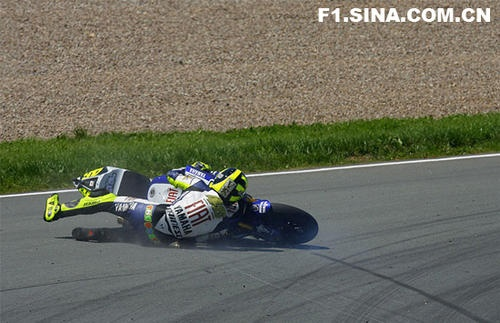falling: (44, 144, 256, 254)
